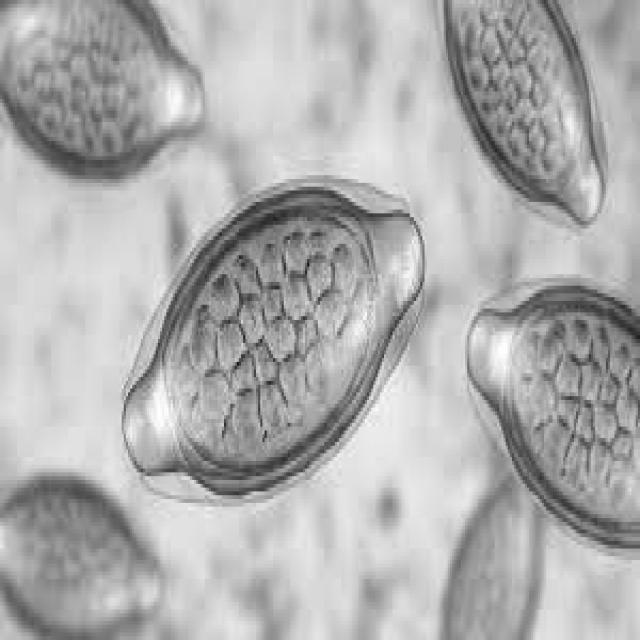Trichuris Trichiura: (106, 188, 426, 524), (465, 262, 638, 568)
